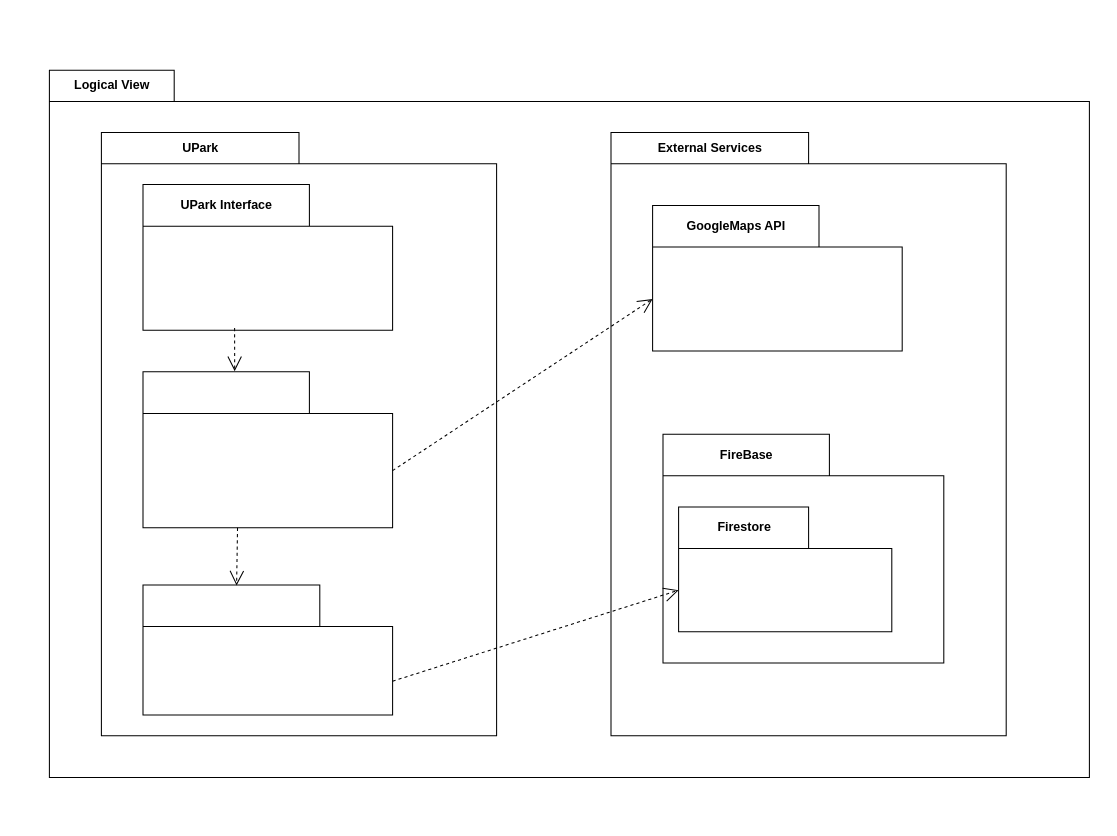
The diagram is 1117 pixels wide and 836 high, and some of its shapes have lost their labels. Each missing label, with the centre of its shape:
"Business Logic" goes at point (267, 449).
"UPark Database Schema" goes at point (267, 649).
